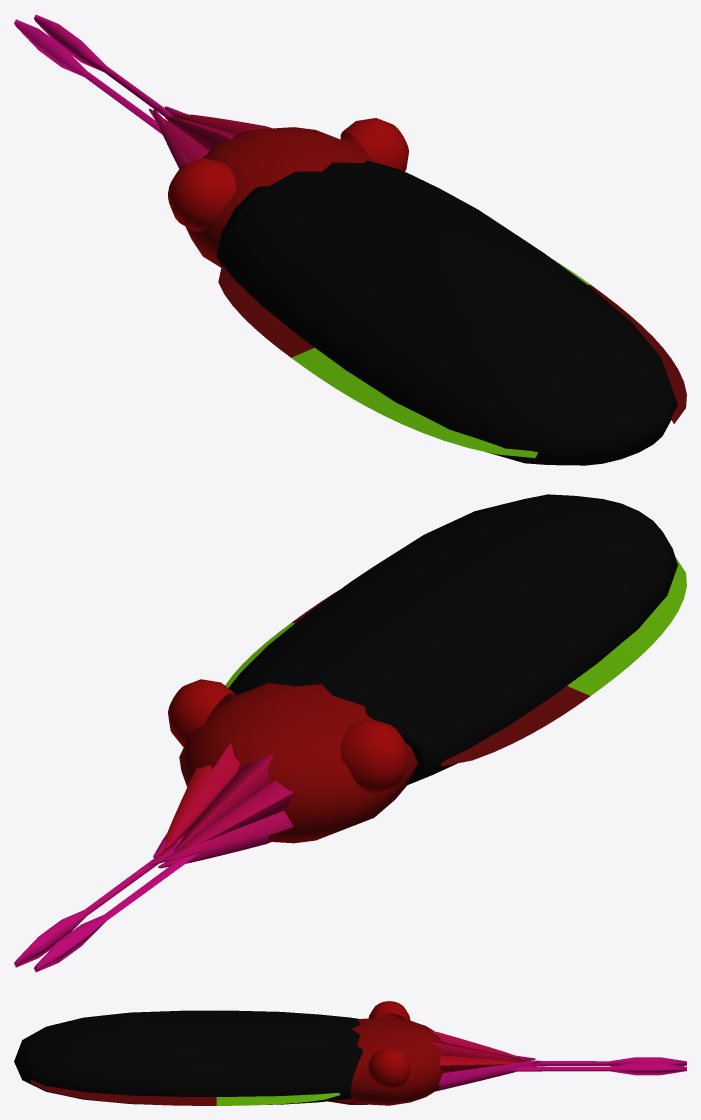
Rendered from cuttlefish_game.glb.
3 views of the same model, one above another, from view 1: azimuth 30°, elevation 25°; view 2: azimuth 150°, elevation 25°; view 3: azimuth 270°, elevation 25° (orthographic). The views are drawn at different scales.
Parts seen in each view (by area): view 1: cuttlefish_game; view 2: cuttlefish_game; view 3: cuttlefish_game.
Part boxes in pixels (x1,y1,x2,y2): cuttlefish_game: (14, 14, 686, 465); cuttlefish_game: (14, 494, 686, 972); cuttlefish_game: (14, 1001, 686, 1105).
Size of the model in its own units: 0.1515 by 0.0677 by 0.52.
